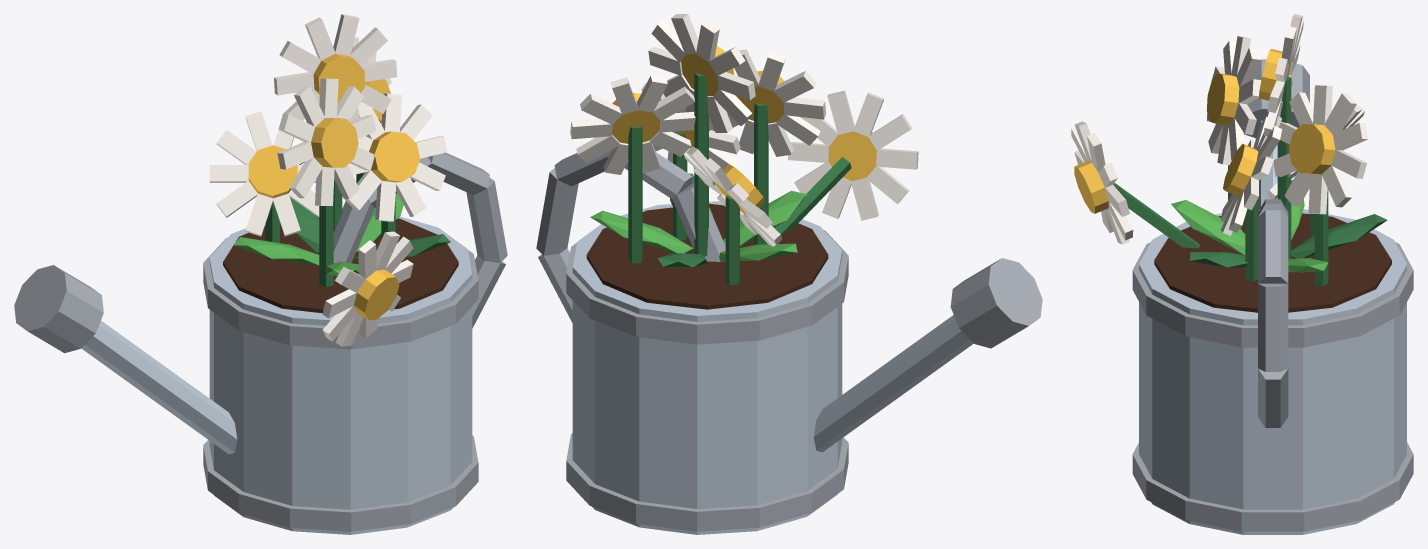
The model's file is CatCafe_Decor_WateringCanPlanter.glb.
3 renders of one model, left to right at view 1: azimuth 30°, elevation 25°; view 2: azimuth 150°, elevation 25°; view 3: azimuth 270°, elevation 25°, orthographic. The views are drawn at different scales.
Visible parts, largest first — view 1: CatCafe_Decor_WateringCanPlanter; view 2: CatCafe_Decor_WateringCanPlanter; view 3: CatCafe_Decor_WateringCanPlanter.
Part boxes in pixels (<box>): CatCafe_Decor_WateringCanPlanter: <box>14,14,507,534</box>; CatCafe_Decor_WateringCanPlanter: <box>536,14,1042,534</box>; CatCafe_Decor_WateringCanPlanter: <box>1071,14,1413,534</box>.
Bounding box in the file's own units: 2.6 × 2.34 × 1.58.
1 material, 1 textured.
